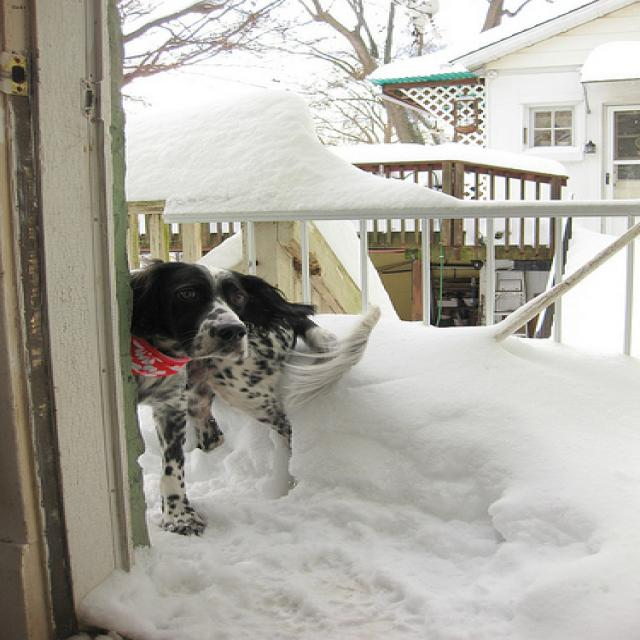dog-english_setter: (116, 253, 393, 543)
